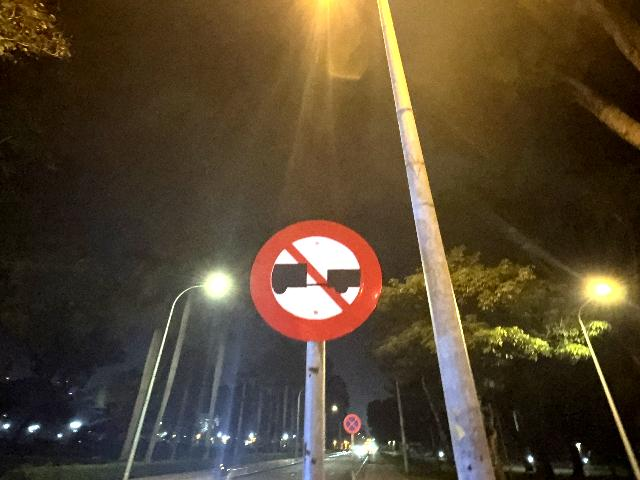cam-xe-somi-romooc: (248, 219, 382, 341)
